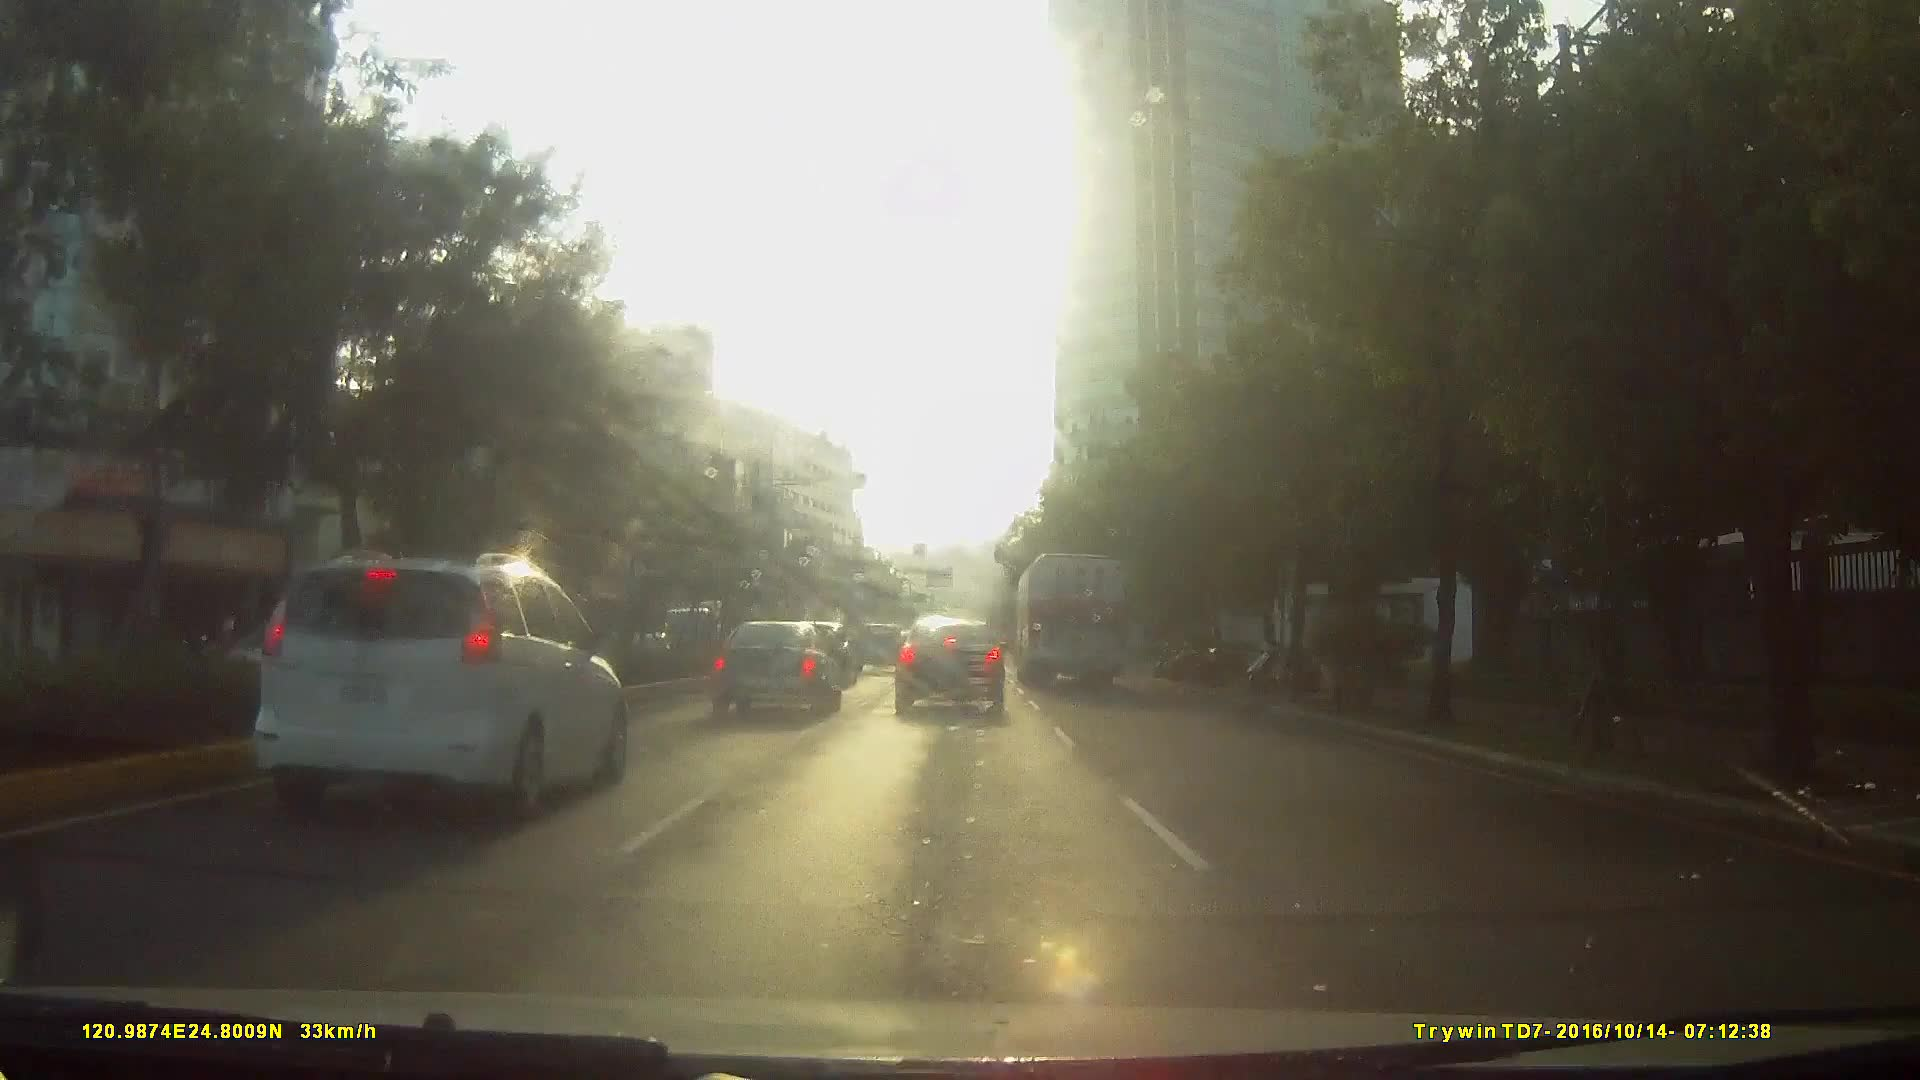vehicle: (251, 556, 684, 868), (225, 546, 637, 829), (1013, 549, 1129, 688), (707, 615, 845, 717), (894, 609, 1009, 717), (849, 616, 906, 674)
